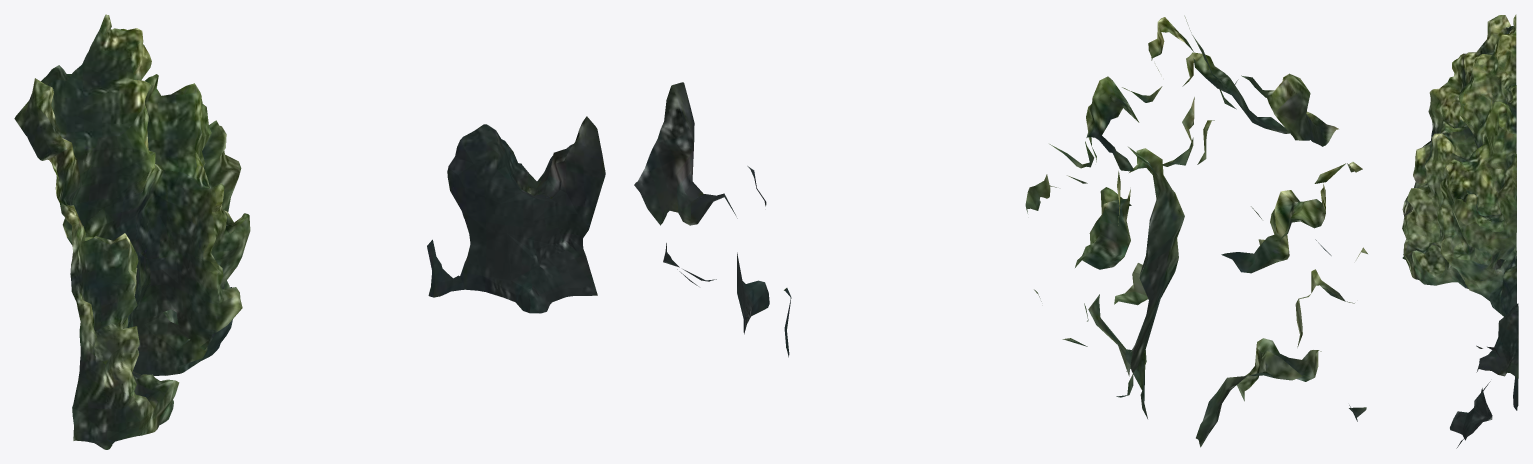
The model's file is Tile_+006_+007_L22_0002350.glb.
The picture shows the model from 3 angles, left to right: view 1: azimuth 30°, elevation 25°; view 2: azimuth 150°, elevation 25°; view 3: azimuth 270°, elevation 25°; orthographic projection. The views are drawn at different scales.
Visible parts, largest first — view 1: rtc; view 2: rtc; view 3: rtc.
Part boxes in pixels (left/top/right/bottom): rtc: left=14, top=14, right=605, bottom=449; rtc: left=634, top=15, right=1367, bottom=447; rtc: left=1402, top=14, right=1518, bottom=448.
Bounding box in the file's own units: 8.98 × 5.72 × 2.23.
Materials: 1 (1 with a texture image).
